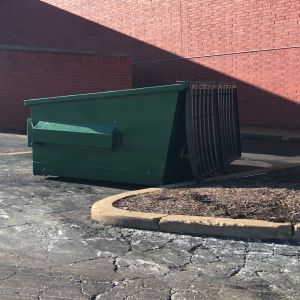Dumpster: (23, 78, 246, 186)
